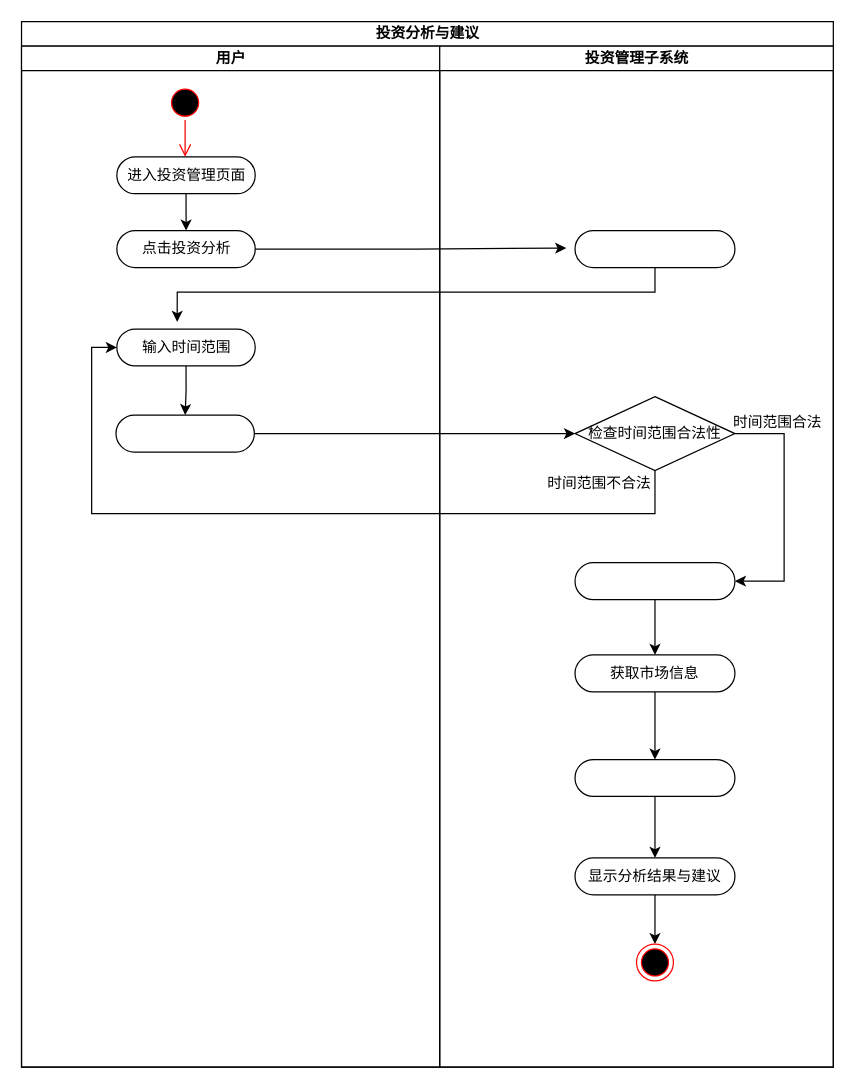
Some shapes in this 855 by 1089 pixel diagram are drawn without their labels. Here are the shapes that lost their labels. From the top down, the box of each, then its label:
(574, 229, 735, 268): 提示用户选择时间范围
(115, 414, 254, 452): 点击按钮提交
(574, 561, 735, 600): 筛选投资信息
(574, 758, 735, 796): 进行投资分析
